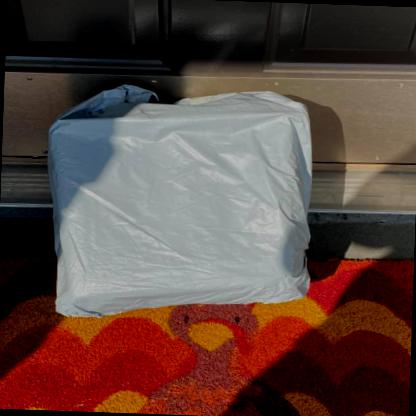plastic_bag: (44, 79, 316, 322)
